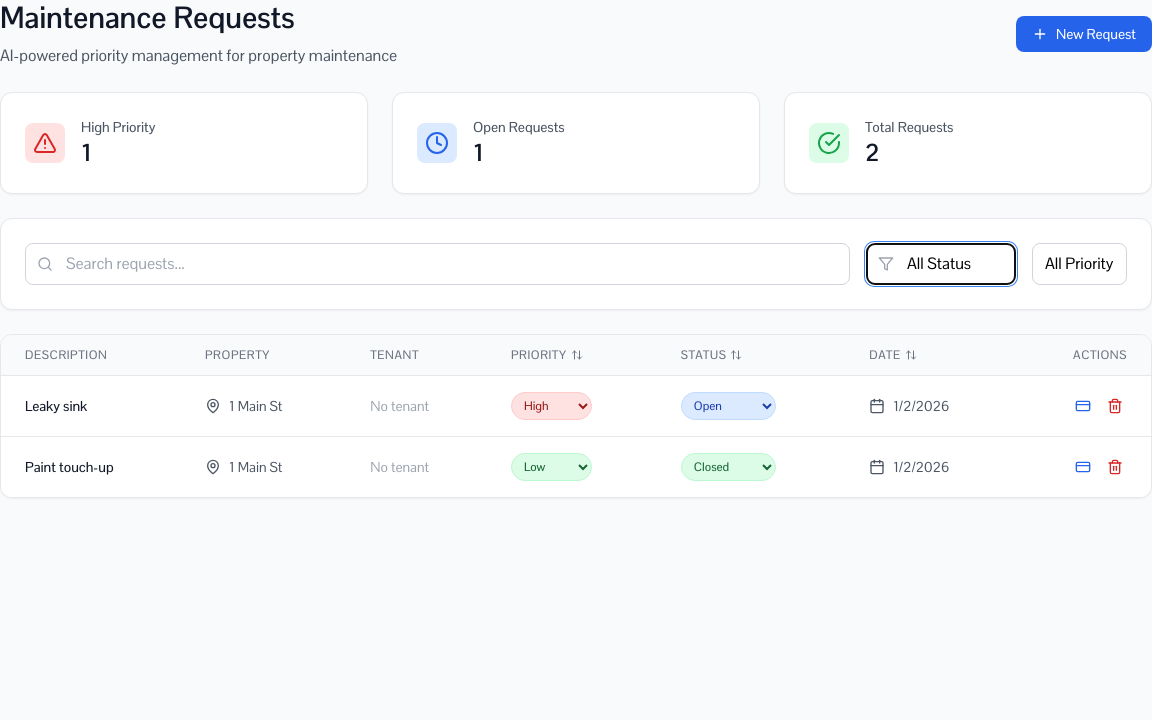
Test case: live dropdowns › updates maintenance priority, status, counts, filters, and the open list together
Earlier steps of the test are not shown.
Later steps or results of the test are not shown.
Select "Low" in the dropdown named "Filter maintenance by priority" at (1080, 264), box [1032,243,1127,285]
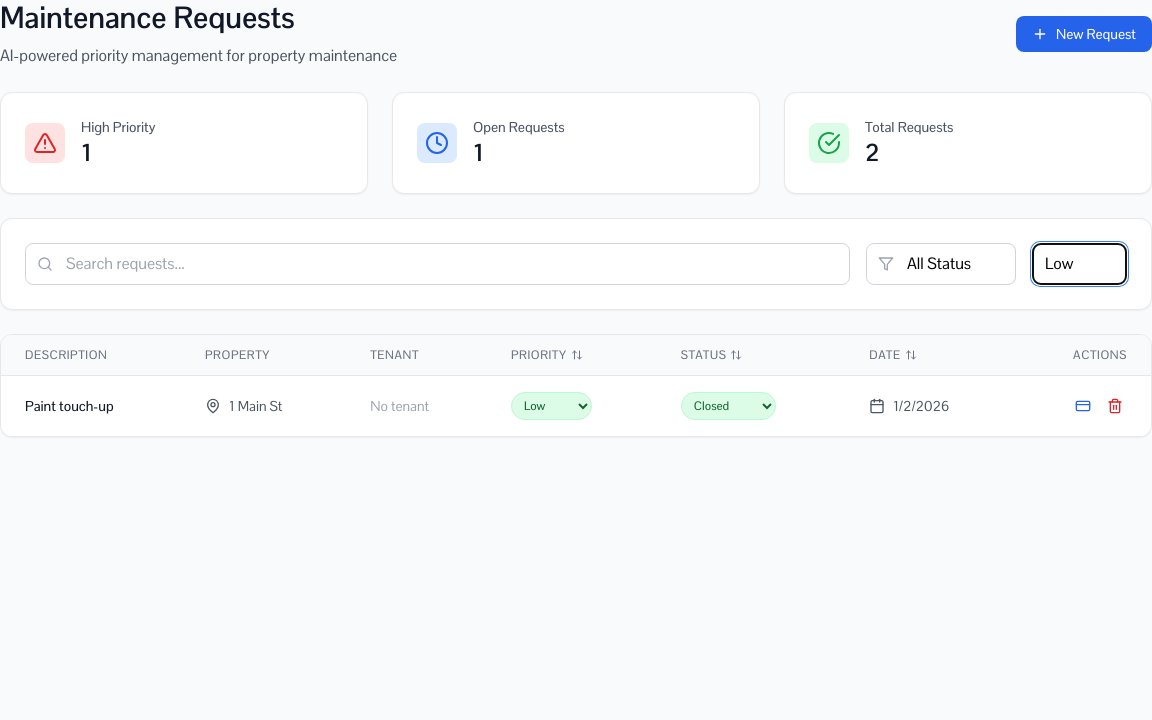
Expected: the text "Paint touch-up" is shown, [25,397,114,415]
Result: the text "Leaky sink" is gone
Select "All Priority" in the dropdown named "Filter maintenance by priority" at (1080, 264), box [1032,243,1127,285]
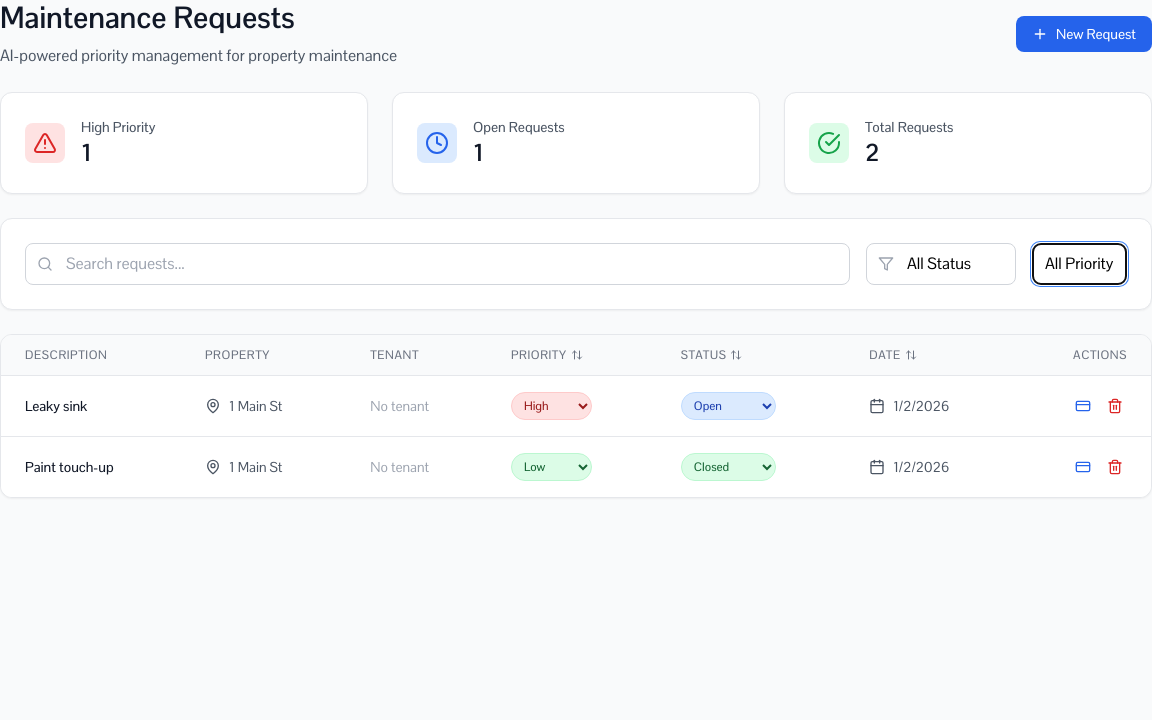
Select "Low" in the dropdown named "Priority for Leaky sink" at (552, 406), box [511,392,592,420]
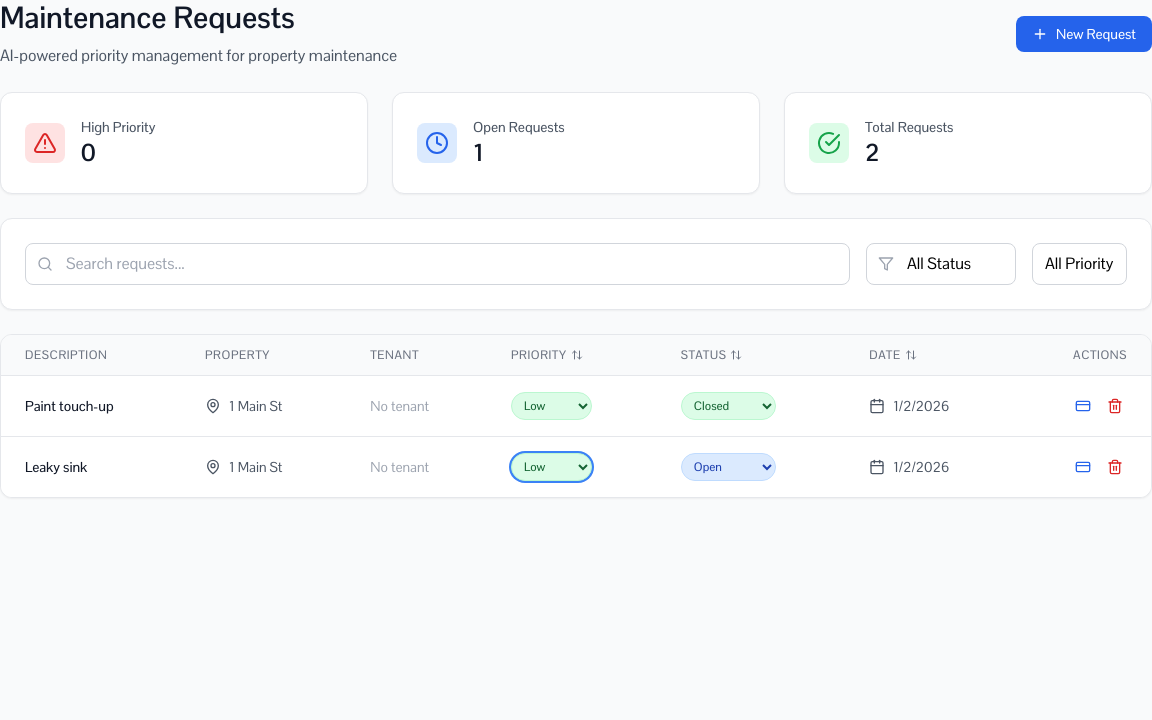
Result: the button "High Priority 0" is shown at [0,92,368,194]
Select "High" in the dropdown named "Priority for Leaky sink" at (552, 467), box [511,453,592,481]
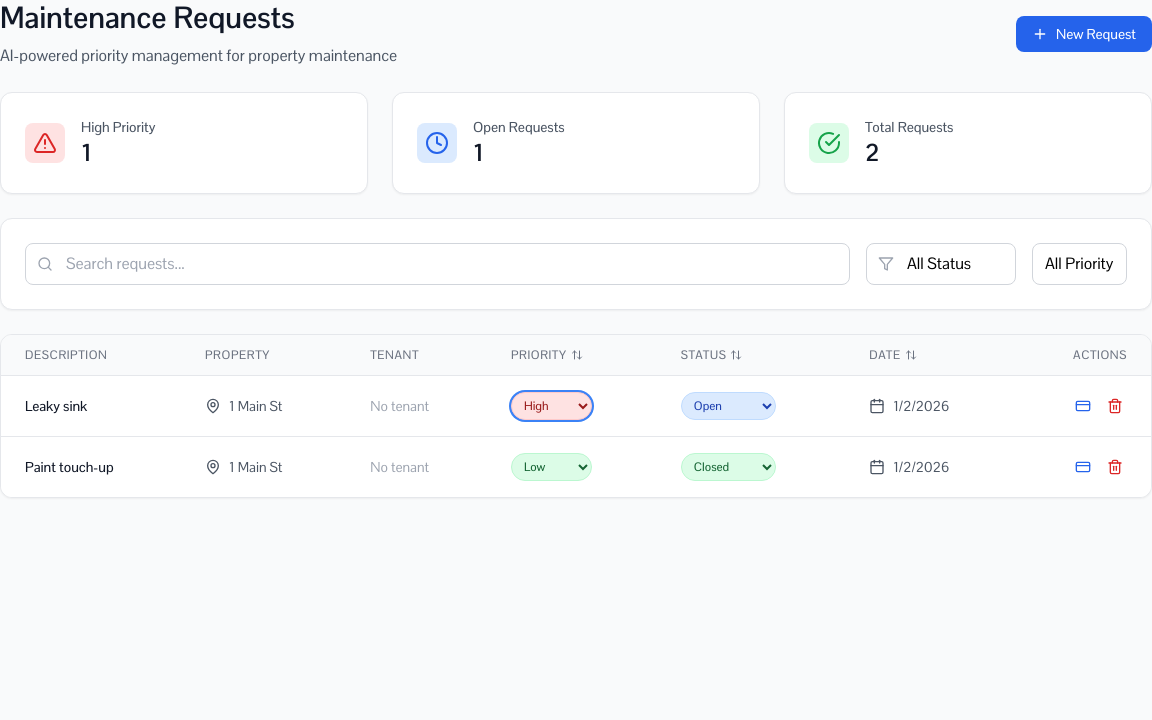
Result: the button "High Priority 1" is shown
Click the button "High Priority 1" at (45, 143), box [0,92,368,194]
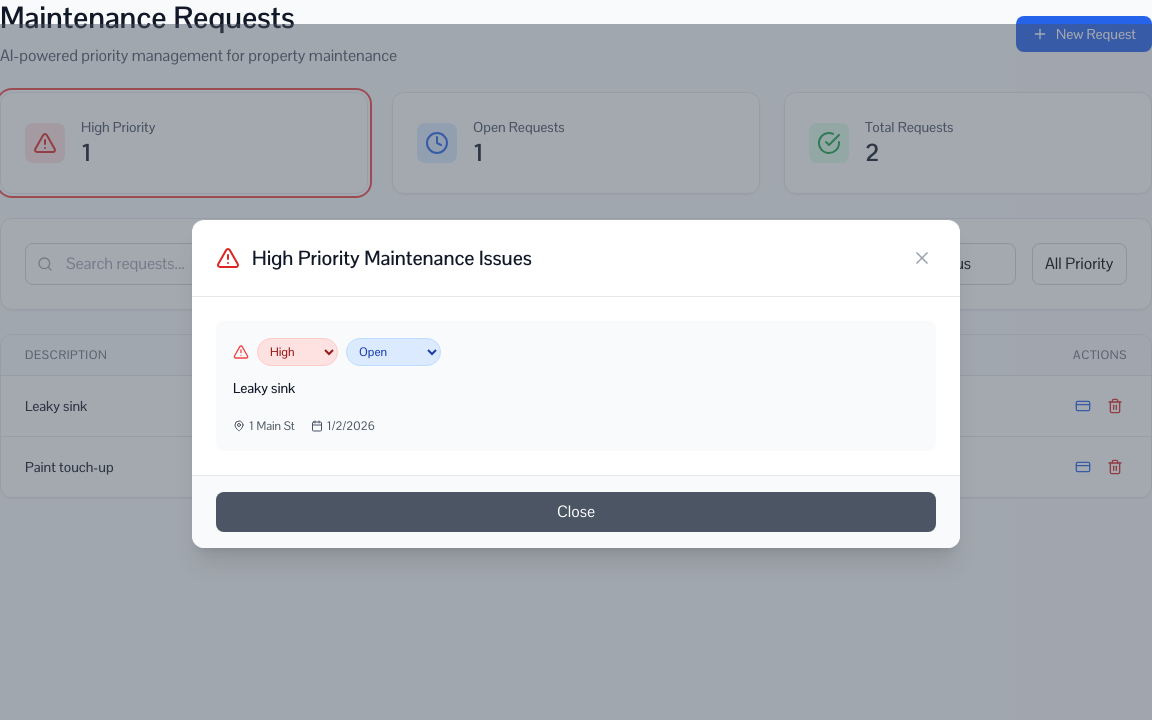
Result: the heading "High Priority Maintenance Issues" is shown at [252,244,532,272]
Select "Closed" in the dropdown named "Status for Leaky sink" at (394, 352), box [346,338,441,366]
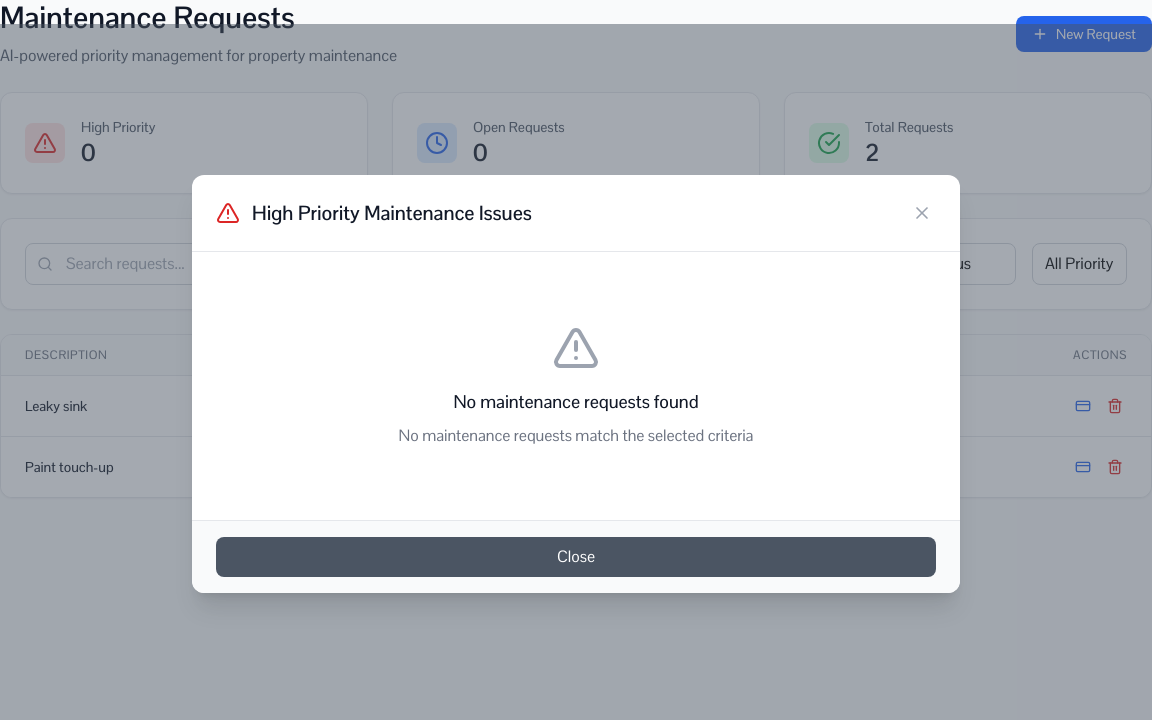
Result: the heading "No maintenance requests found" is shown at [453,390,699,413]
